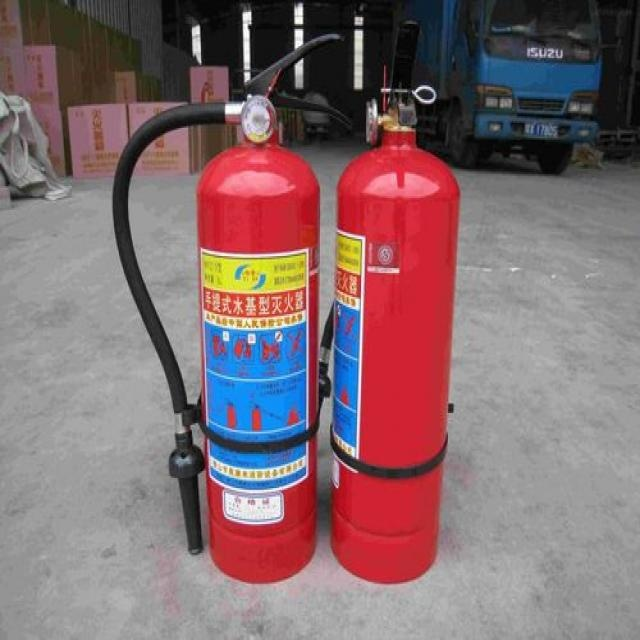fire extinguisher: (109, 17, 466, 598)
